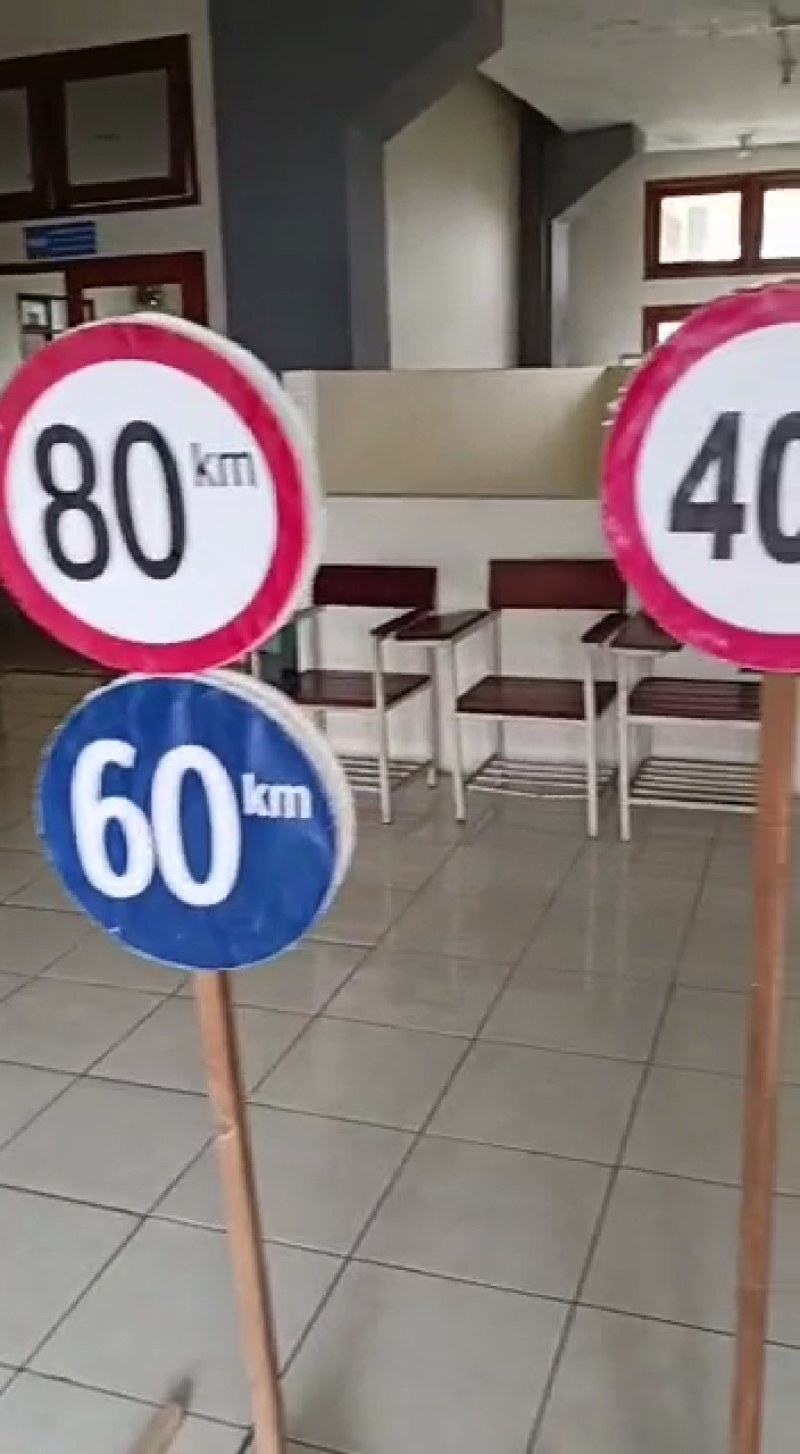batas maksimal 40kmperjam: (595, 269, 800, 715)
batas maksimal 80kmperjam minimal 60kmperjam: (1, 290, 360, 993)
